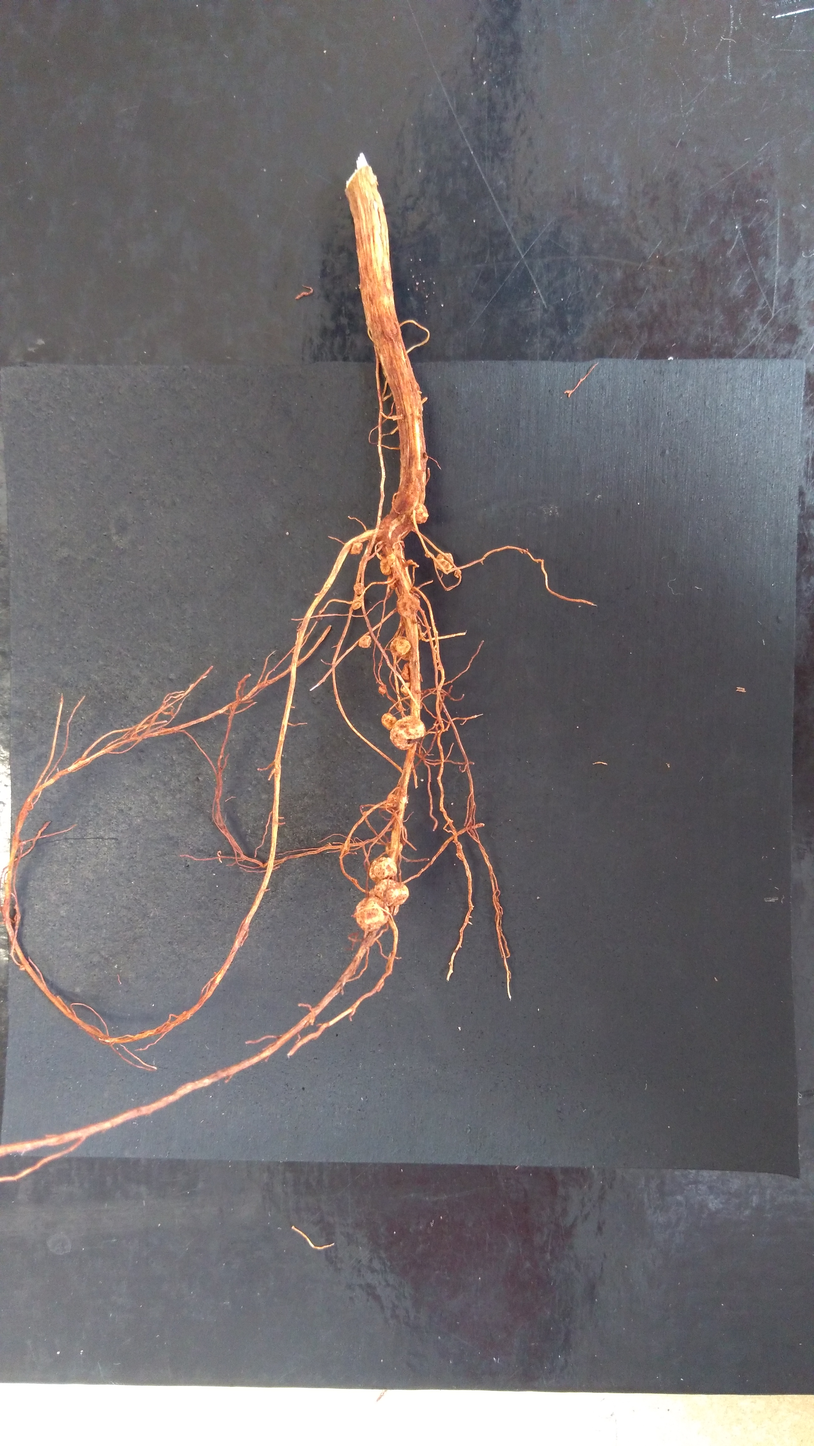nodule: (354, 896, 390, 931), (390, 715, 425, 750), (368, 879, 409, 905), (369, 857, 397, 881), (396, 592, 420, 615), (390, 636, 411, 656), (410, 503, 428, 524), (434, 553, 454, 571), (385, 841, 403, 857), (381, 713, 396, 730), (380, 559, 391, 576), (401, 663, 410, 681), (358, 636, 371, 648), (387, 575, 398, 589), (350, 543, 362, 555), (387, 794, 398, 807), (352, 596, 362, 610), (354, 583, 365, 595), (401, 682, 410, 696), (400, 825, 406, 846), (387, 553, 395, 568), (389, 904, 399, 916), (401, 650, 410, 660), (378, 685, 386, 694), (454, 569, 461, 578), (424, 552, 433, 558)
